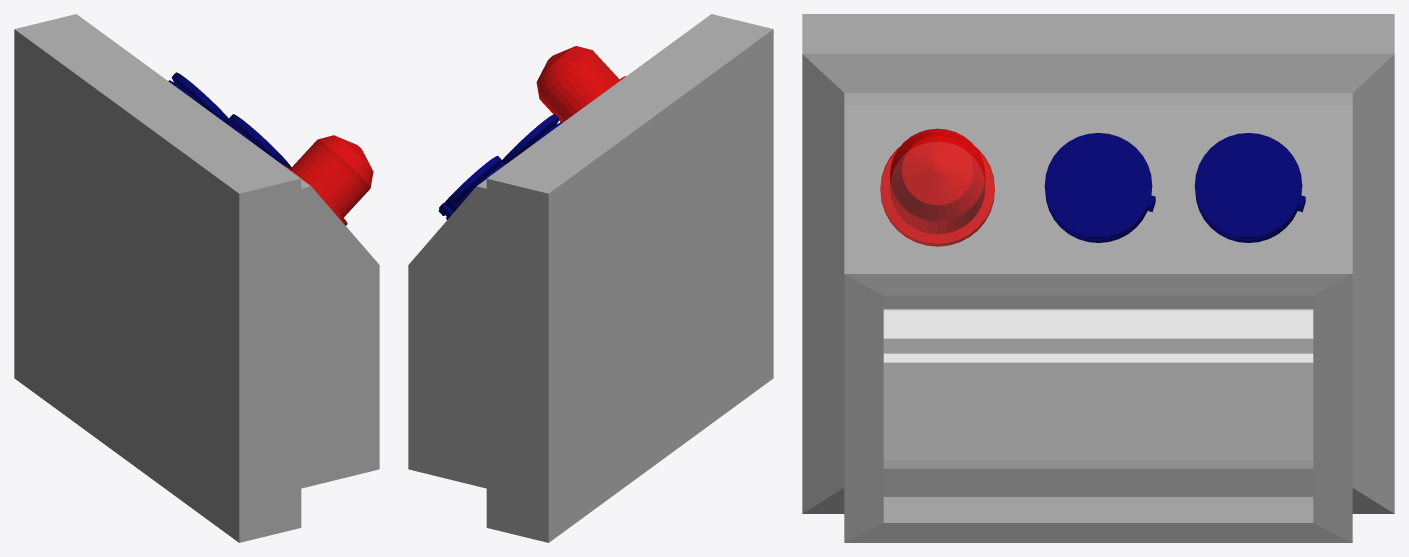
File: disjoncteur.fbx
The picture shows the model from 3 angles, left to right: view 1: azimuth 30°, elevation 25°; view 2: azimuth 150°, elevation 25°; view 3: azimuth 270°, elevation 25°; orthographic projection. The views are drawn at different scales.
Parts seen in each view (by area): view 1: Cube, Cylindre, Cylindre.001, Cylindre.002; view 2: Cube, Cylindre, Cylindre.002, Cylindre.001; view 3: Cube, Cube.001, Cylindre, Cylindre.001, Cylindre.002.
Boxes of the visible parts, <box> form: Cube: <box>14,14,379,542</box>; Cylindre: <box>284,135,373,225</box>; Cylindre.001: <box>225,114,291,168</box>; Cylindre.002: <box>168,72,230,123</box>; Cube: <box>408,14,773,542</box>; Cylindre: <box>536,46,625,122</box>; Cylindre.002: <box>438,156,505,219</box>; Cylindre.001: <box>500,114,562,165</box>; Cube: <box>802,14,1394,542</box>; Cube.001: <box>883,309,1313,468</box>; Cylindre: <box>880,128,994,246</box>; Cylindre.001: <box>1044,133,1155,242</box>; Cylindre.002: <box>1194,133,1305,242</box>.
Bounding box in the file's own units: 92.65 × 171 × 200.
